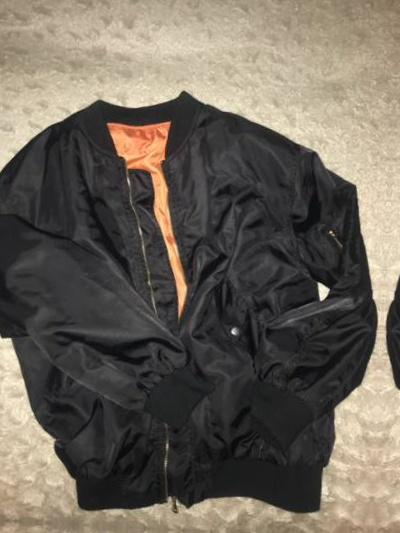Blazer: (0, 78, 387, 526), (379, 102, 400, 533), (0, 533, 361, 533)
